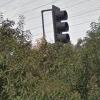Traffic light: (41, 4, 76, 49)
